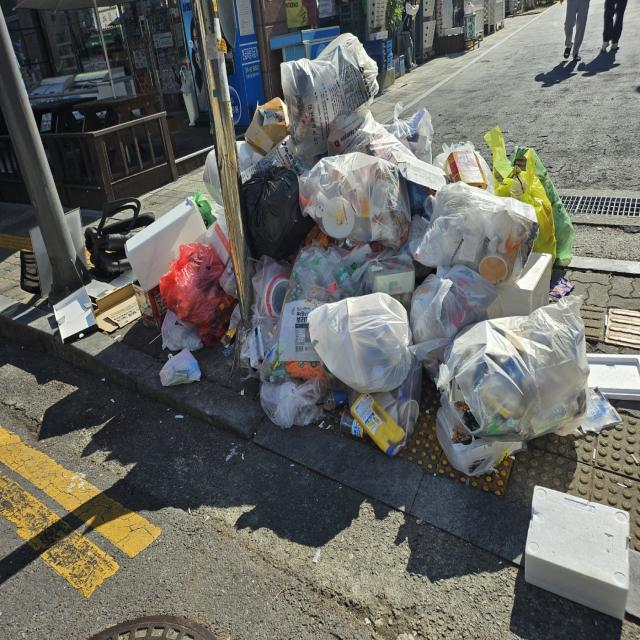General Waste: (438, 295, 613, 457), (515, 465, 630, 621), (413, 172, 545, 290), (272, 29, 385, 151), (304, 293, 424, 398), (287, 156, 398, 255), (40, 277, 168, 360), (231, 165, 320, 270), (229, 243, 295, 384), (157, 240, 232, 348)
